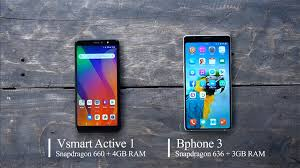bphone: (182, 33, 236, 132)
vsmart: (70, 38, 124, 137)
